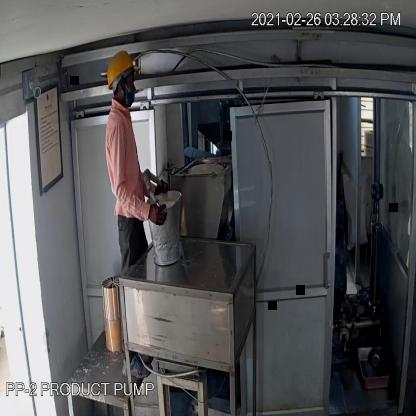helmet: (104, 48, 140, 92)
